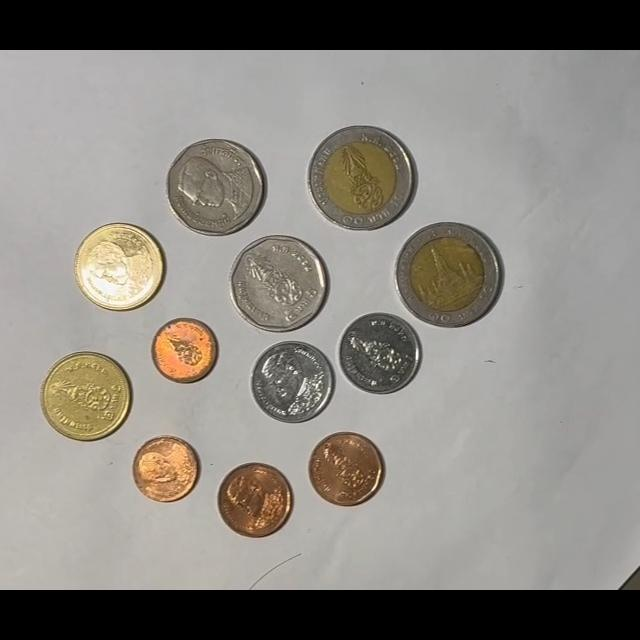1-baht: (250, 340, 333, 424), (338, 312, 421, 395)
10-baht: (307, 125, 416, 232), (395, 222, 502, 328)
2-baht: (40, 351, 132, 442), (74, 223, 163, 312)
25-satang: (131, 435, 201, 504), (151, 317, 218, 383)
5-baht: (166, 138, 266, 237), (229, 234, 328, 333)
50-satang: (217, 462, 294, 538), (307, 431, 384, 507)
